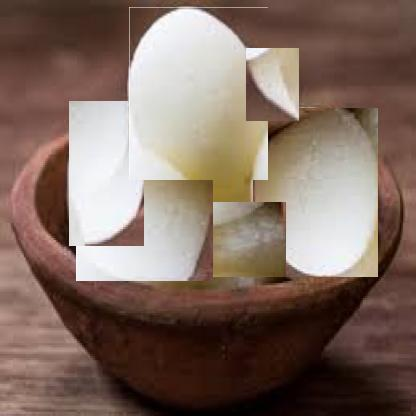rasgulla: (129, 7, 268, 180), (252, 107, 378, 277), (80, 156, 210, 285), (68, 100, 144, 246), (194, 195, 281, 282), (245, 47, 300, 121)
